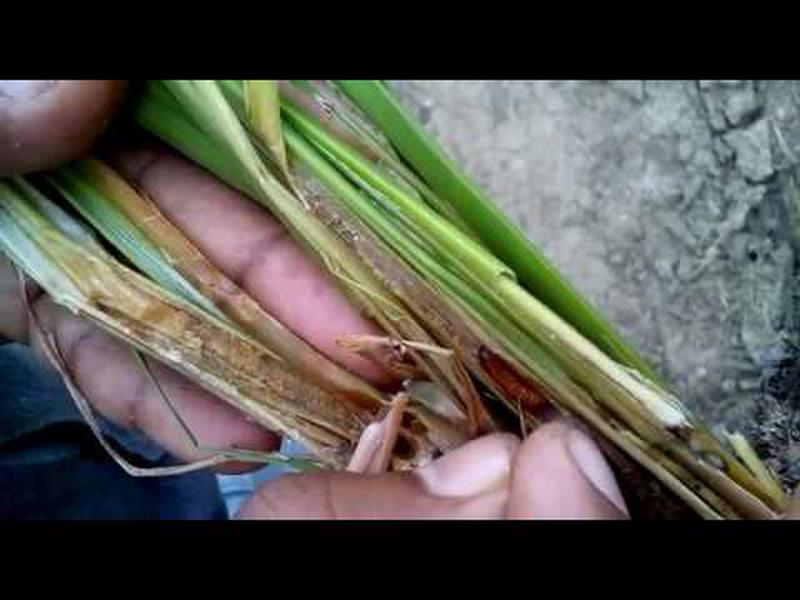Rice_skipper: (315, 326, 477, 475)
